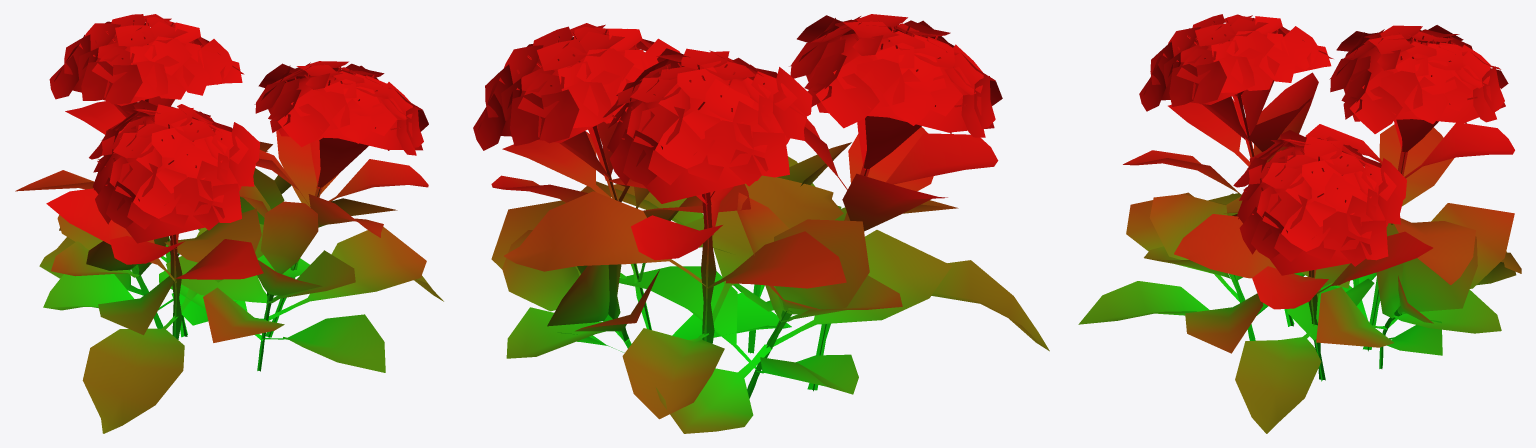
File: Var8_LOD3.fbx
3 views of the same model, side by side, from view 1: azimuth 30°, elevation 25°; view 2: azimuth 150°, elevation 25°; view 3: azimuth 270°, elevation 25° (orthographic). The views are drawn at different scales.
Visible parts, largest first — view 1: _6nem_Var8_LOD3; view 2: _6nem_Var8_LOD3; view 3: _6nem_Var8_LOD3.
Part boxes in pixels (box(x1,y1,x2,y2)): _6nem_Var8_LOD3: box(15, 14, 443, 433); _6nem_Var8_LOD3: box(473, 14, 1049, 433); _6nem_Var8_LOD3: box(1078, 14, 1521, 433).
Size of the model in its own units: 40.66 by 30.02 by 39.45.
